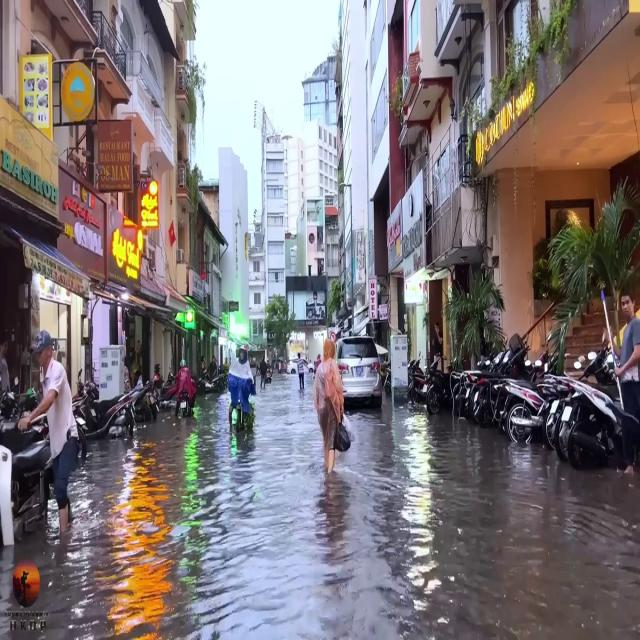bien_xanh: (356, 365, 365, 378)
